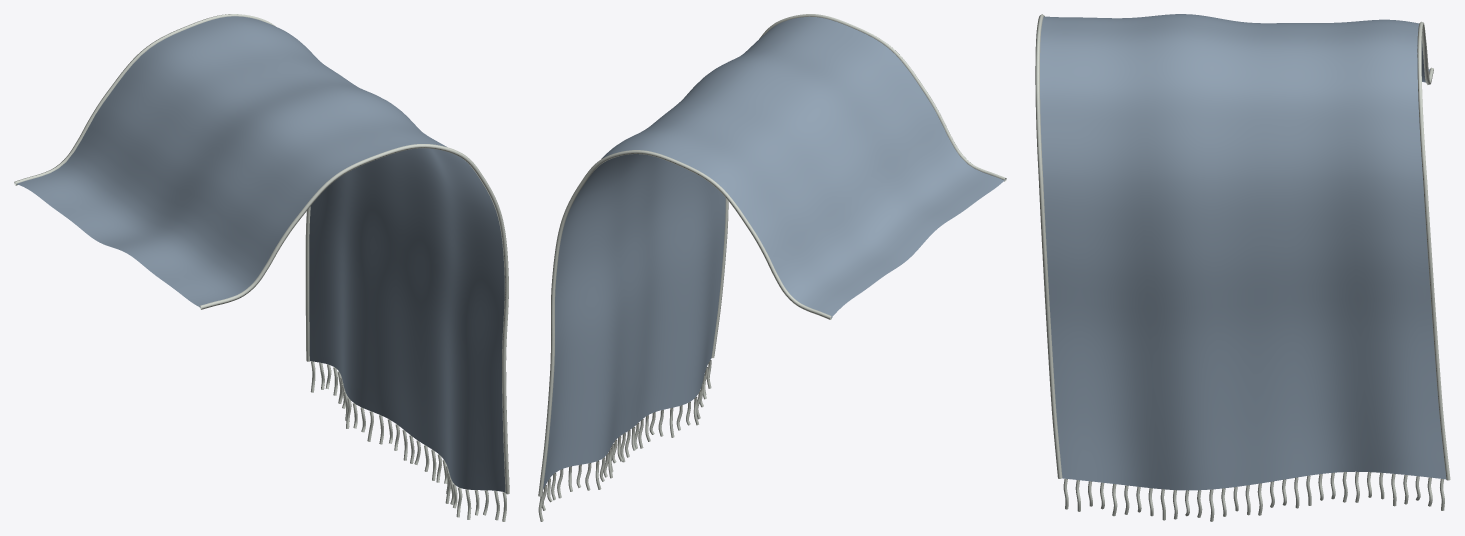
Rendered from family-fringed-throw-v1.glb.
3 renders of one model, left to right at view 1: azimuth 30°, elevation 25°; view 2: azimuth 150°, elevation 25°; view 3: azimuth 270°, elevation 25°, orthographic. The views are drawn at different scales.
Visible parts, largest first — view 1: Wool drape, Bound selvage (×2); view 2: Wool drape, Bound selvage (×2); view 3: Wool drape, Bound selvage (×2).
Boxes of the visible parts, x1,y1,x2,y2 form: Wool drape: [17, 16, 505, 492]; Bound selvage (×2): [14, 14, 509, 494]; Wool drape: [543, 16, 1004, 489]; Bound selvage (×2): [538, 14, 1006, 496]; Wool drape: [1040, 14, 1446, 490]; Bound selvage (×2): [1035, 14, 1450, 480].
Bounding box in the file's own units: 0.3739 × 0.488 × 0.4222.
